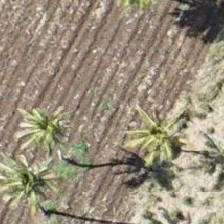coconut_tree: (117, 100, 207, 190), (16, 73, 106, 163), (0, 142, 84, 223)
